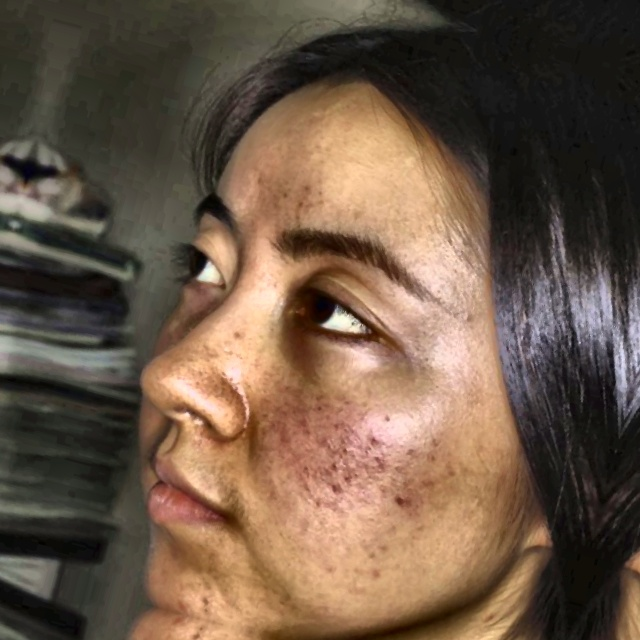comedone: (189, 587, 217, 619), (181, 620, 209, 640)
